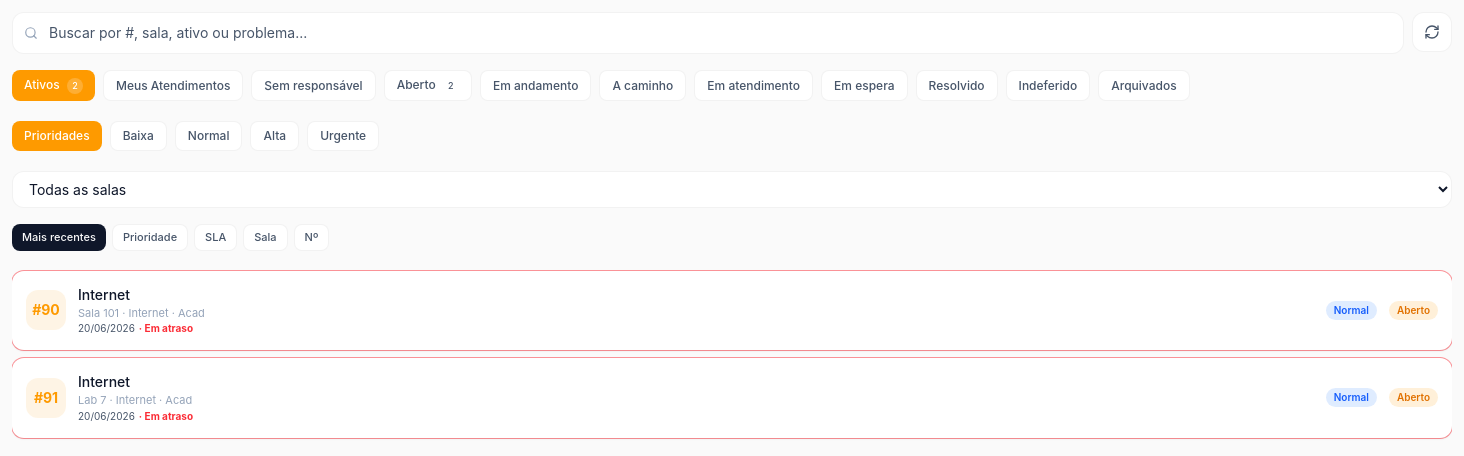
it: TicketList — a fila operacional não é a área pessoal › a pesquisa operacional continua funcionando (nº, sala, ativo, problema)
The image size is (1464, 456).
In the field with placeholder "Buscar por #, sala, ativo ou problema...": coordinates (708, 33) [12,12,1404,54], type "Sala 101"
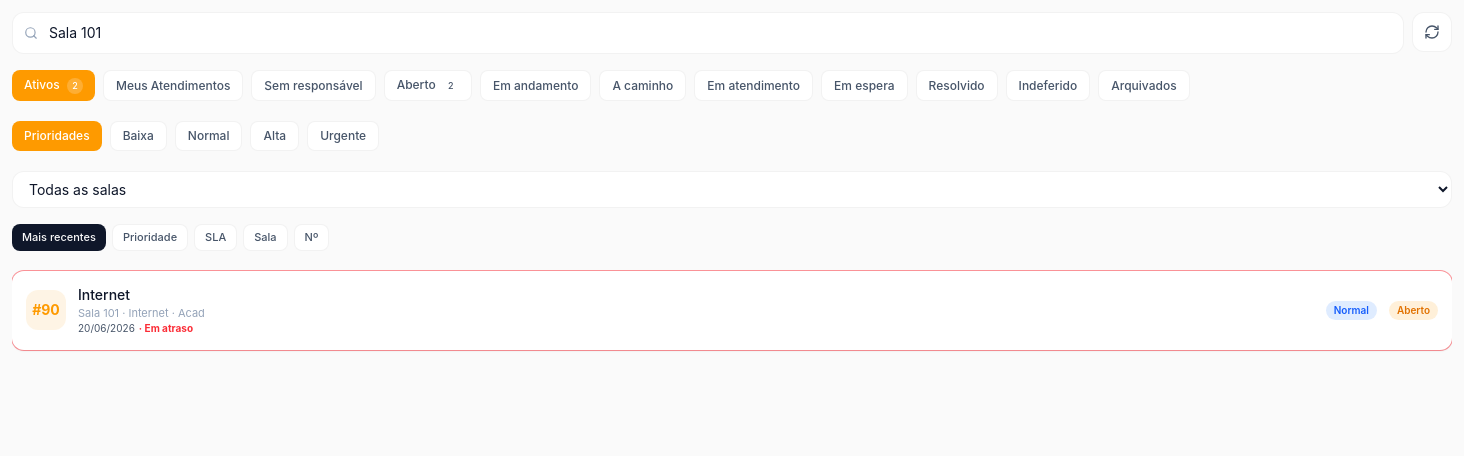
Check: the text "#90" is shown, box [26,290,66,330]
Check: the button "#91" is gone
